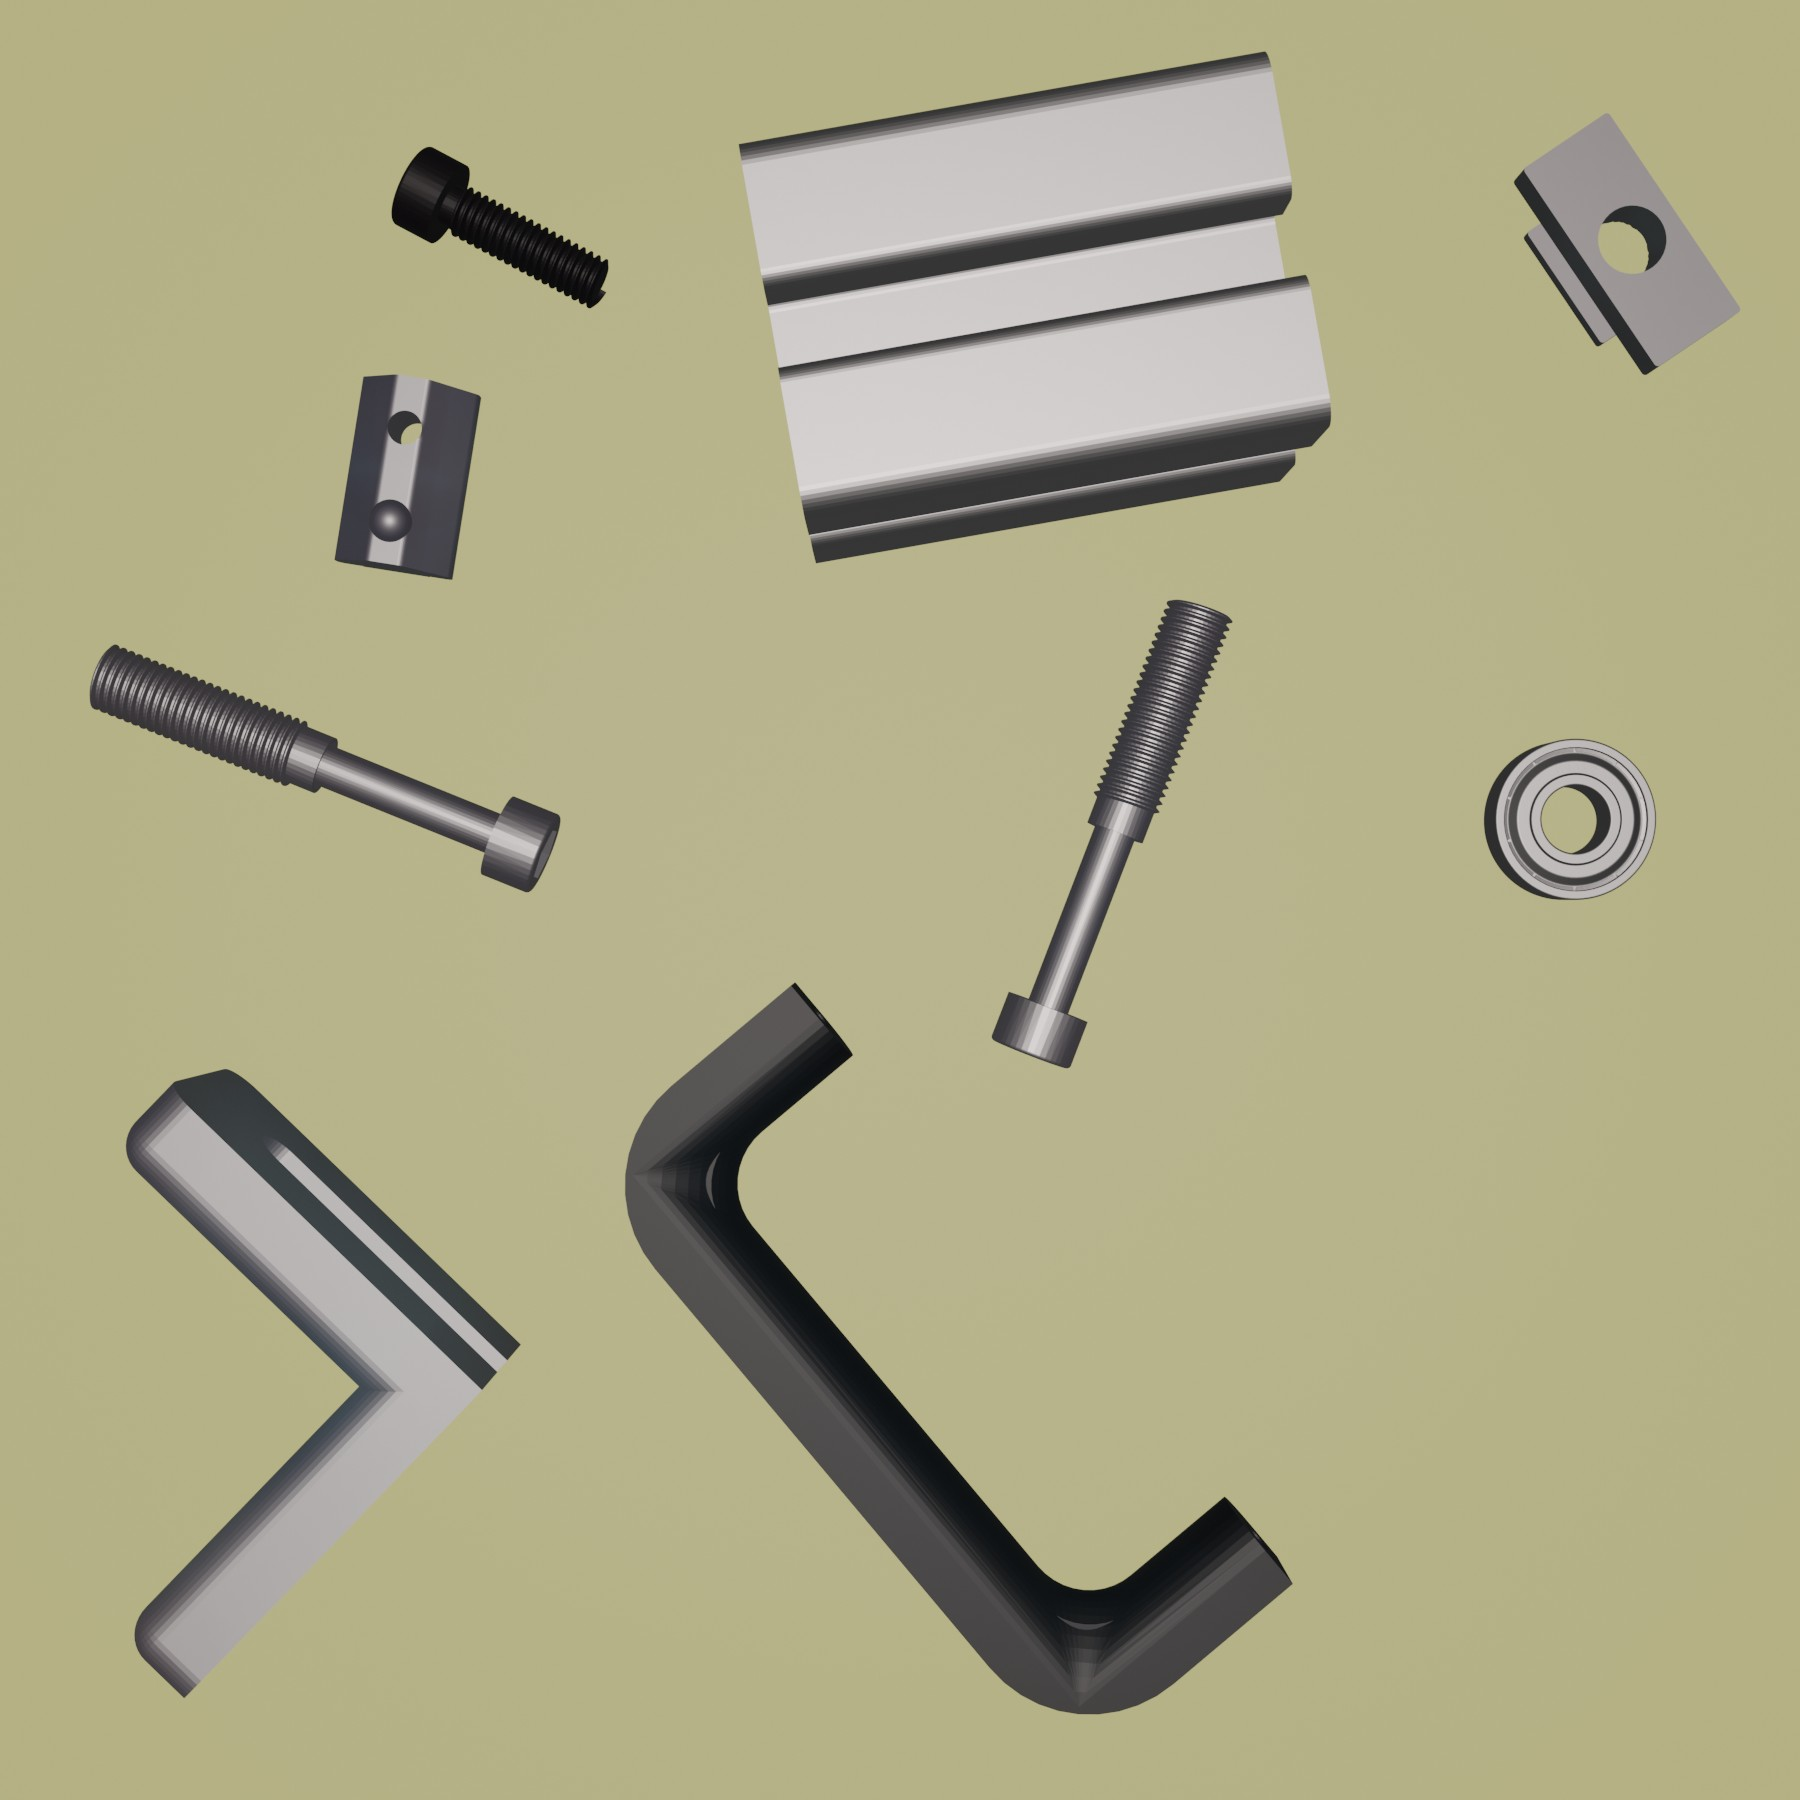Aluminium Extension: (735, 46, 1334, 569)
Ball Bearing: (1482, 735, 1662, 905)
Multiwinkel: (124, 1063, 524, 1699)
Pull Handle: (620, 981, 1292, 1716)
Shoulder Socket Head Cap Screw: (86, 641, 562, 897), (992, 597, 1236, 1070)
Socket Head Cap Screw: (387, 142, 612, 312)
T Nut Square: (1508, 109, 1742, 377)
T Spring Nut: (330, 369, 485, 582)
